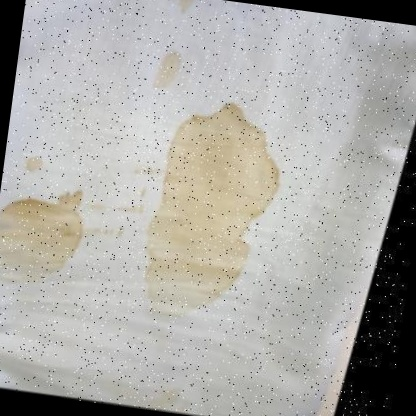coffee: (162, 120, 262, 287), (0, 202, 80, 282)
